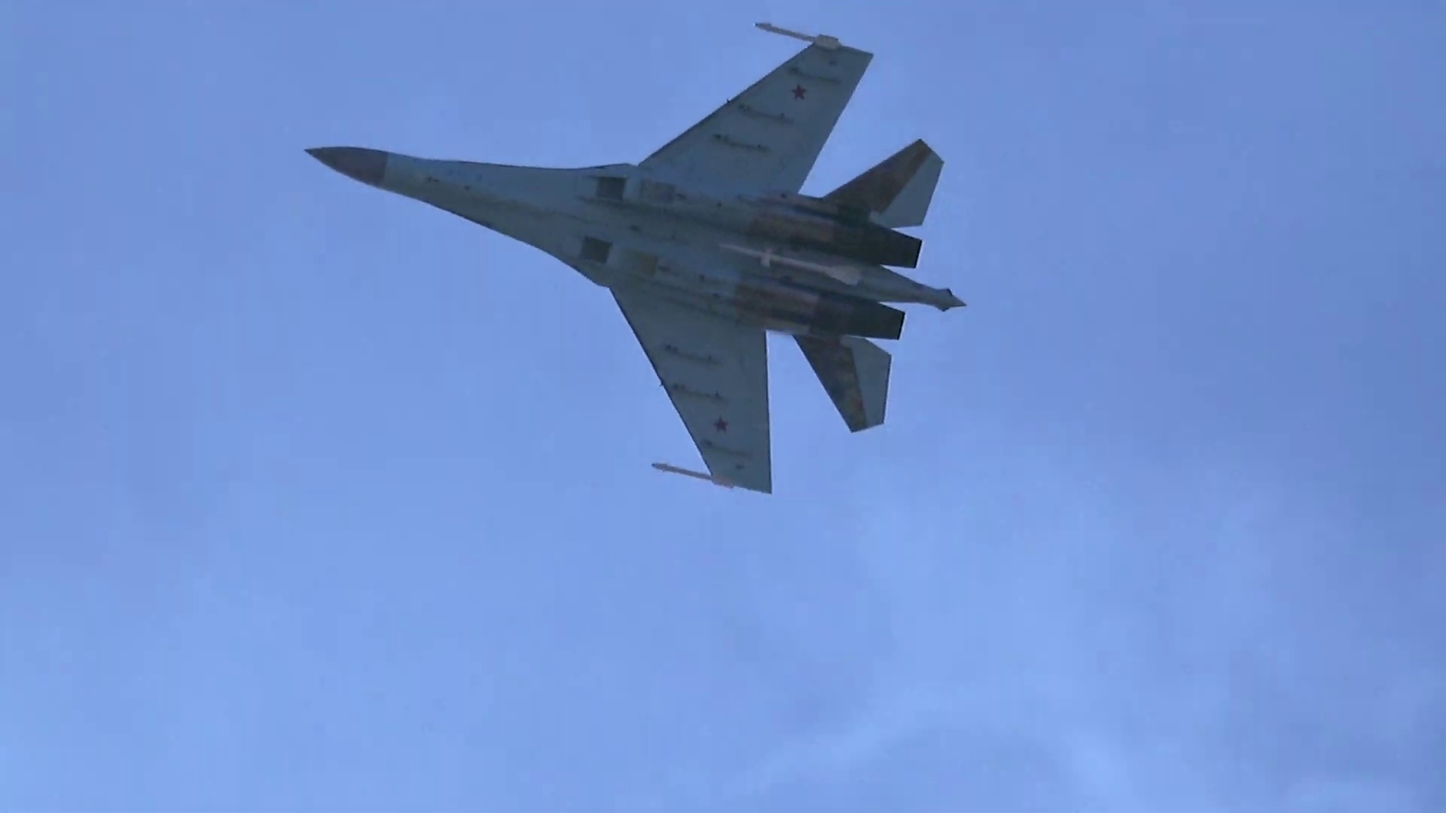Su35: (303, 22, 968, 495)
